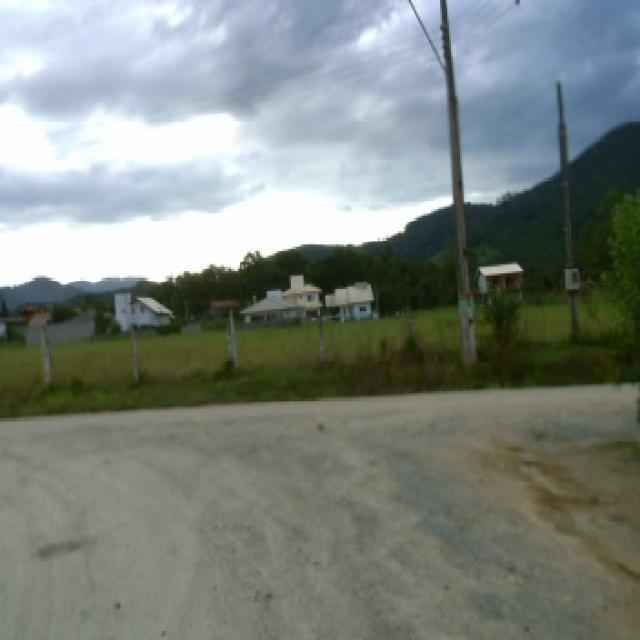Poth-hole: (488, 440, 636, 584), (32, 531, 94, 560), (527, 427, 549, 440)
